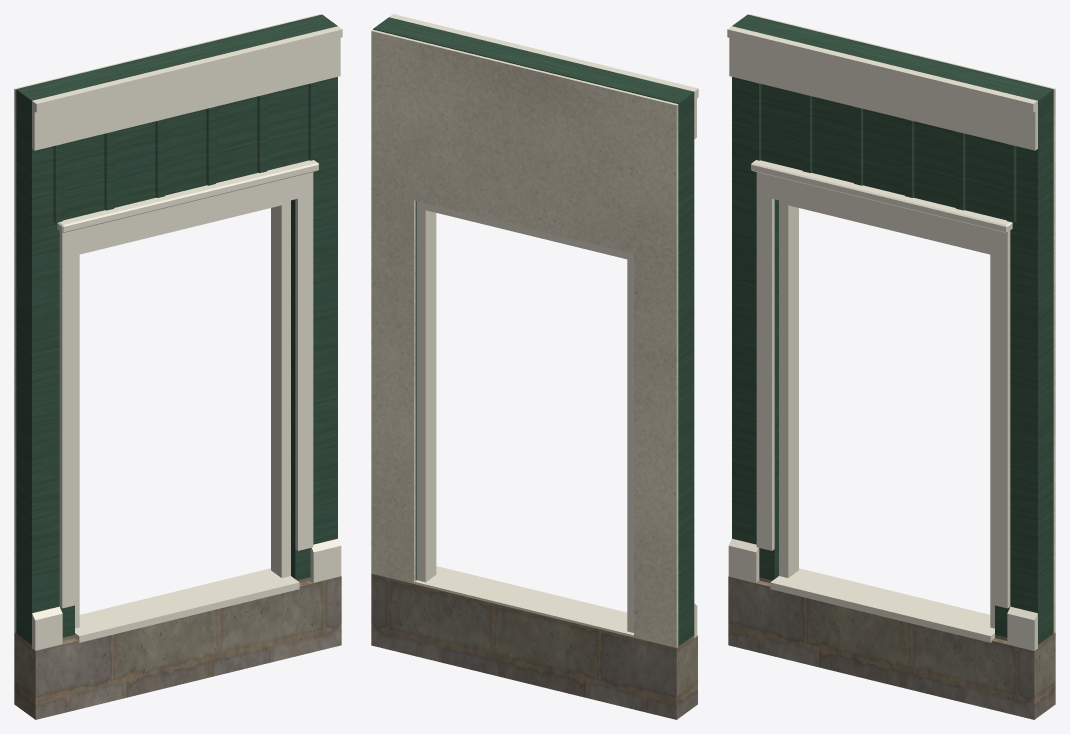
Rendered from w_fdoor.glb.
3 views of the same model, side by side, from view 1: azimuth 30°, elevation 25°; view 2: azimuth 150°, elevation 25°; view 3: azimuth 330°, elevation 25° (orthographic).
Parts seen in each view (by area): view 1: w_fdoor_boards, w_fdoor_trim, w_fdoor_stone, w_fdoor_frame, w_fdoor_plaster; view 2: w_fdoor_plaster, w_fdoor_stone, w_fdoor_boards, w_fdoor_frame, w_fdoor_trim; view 3: w_fdoor_boards, w_fdoor_trim, w_fdoor_stone, w_fdoor_frame, w_fdoor_plaster.
Part boxes in pixels (x1=…): w_fdoor_boards: x1=16, y1=14, x2=337, y2=644; w_fdoor_trim: x1=32, y1=26, x2=342, y2=650; w_fdoor_stone: x1=14, y1=576, x2=341, y2=719; w_fdoor_frame: x1=75, y1=200, x2=290, y2=628; w_fdoor_plaster: x1=14, y1=14, x2=320, y2=633; w_fdoor_plaster: x1=371, y1=29, x2=678, y2=647; w_fdoor_stone: x1=371, y1=573, x2=697, y2=719; w_fdoor_boards: x1=373, y1=17, x2=694, y2=646; w_fdoor_frame: x1=416, y1=201, x2=633, y2=632; w_fdoor_trim: x1=389, y1=14, x2=698, y2=637; w_fdoor_boards: x1=732, y1=14, x2=1053, y2=644; w_fdoor_trim: x1=727, y1=26, x2=1037, y2=650; w_fdoor_stone: x1=728, y1=576, x2=1055, y2=719; w_fdoor_frame: x1=779, y1=200, x2=994, y2=628; w_fdoor_plaster: x1=749, y1=14, x2=1055, y2=633.
Size of the model in its own units: 2 by 3.85 by 0.27.
Materials: 5 (3 with a texture image).
